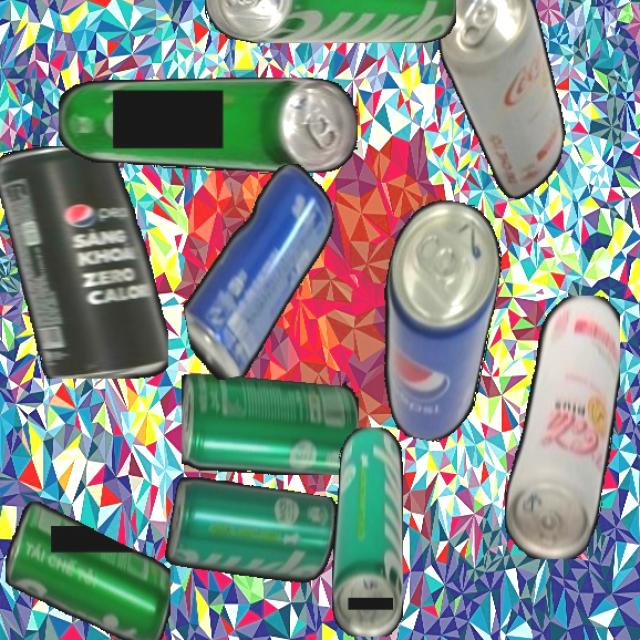debris: (162, 160, 358, 383), (0, 144, 168, 378), (361, 193, 510, 447), (413, 0, 590, 205), (504, 295, 620, 559), (58, 77, 358, 174), (4, 500, 170, 640), (164, 472, 341, 591), (180, 373, 359, 475), (331, 426, 403, 637), (205, 0, 456, 43)
